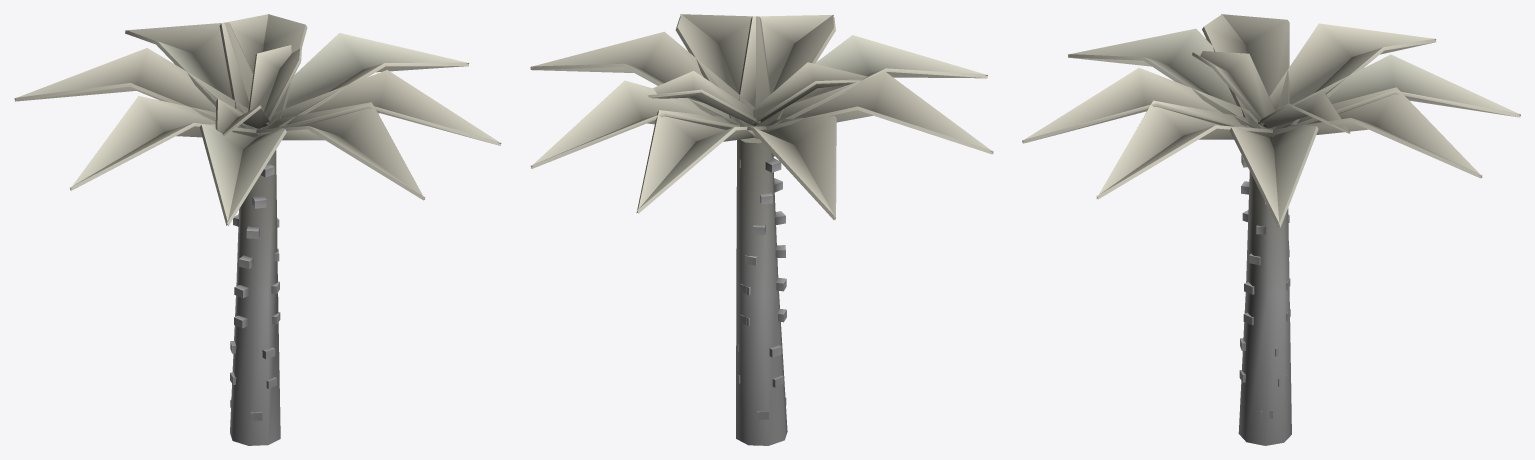
Rendered from tree_fern.glb.
3 renders of one model, left to right at view 1: azimuth 30°, elevation 25°; view 2: azimuth 150°, elevation 25°; view 3: azimuth 270°, elevation 25°, orthographic.
Visible parts, largest first — view 1: Tree_Fern; view 2: Tree_Fern; view 3: Tree_Fern.
Part boxes in pixels (left/top/right/bottom): Tree_Fern: left=14, top=14, right=501, bottom=445; Tree_Fern: left=530, top=14, right=993, bottom=445; Tree_Fern: left=1022, top=14, right=1520, bottom=445.
Bounding box in the file's own units: 4.13 × 3.31 × 4.12.
